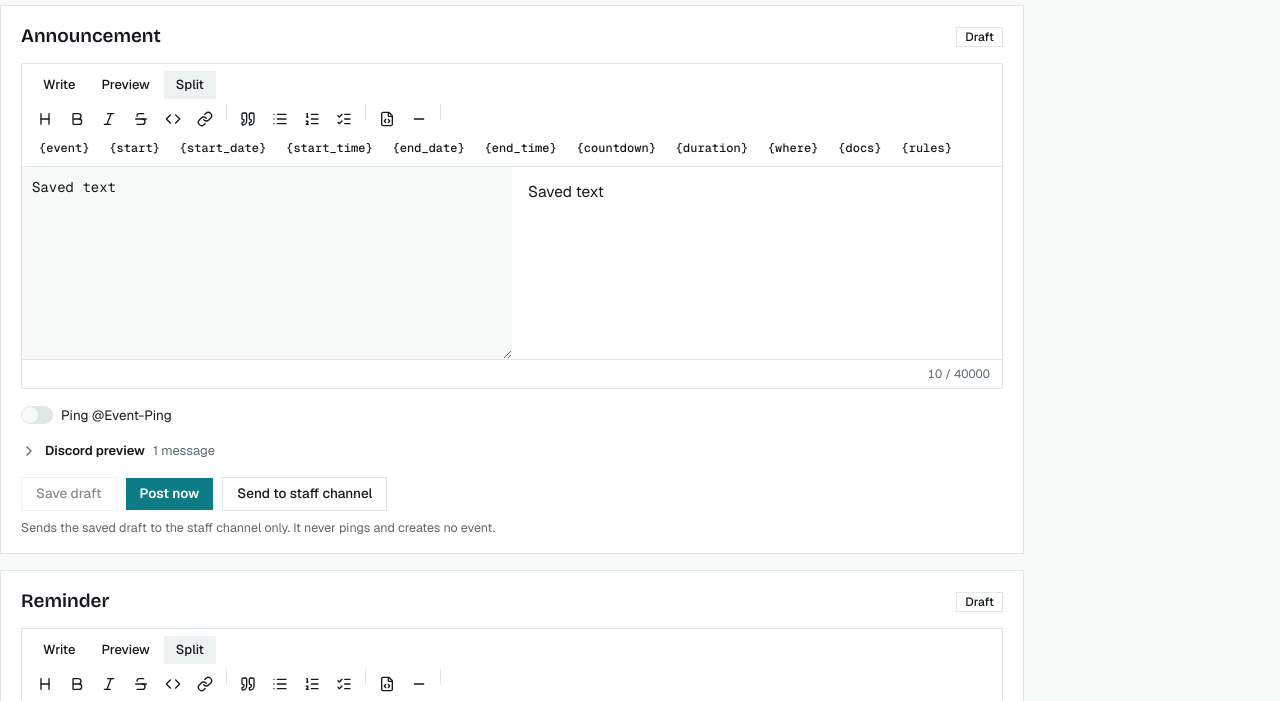
Test: MessagesTab › keeps the Discord preview closed until opened
(page scrolled)
Step 1. Click the button "Discord preview 1 message" → (118, 451), box [21,441,215,460]
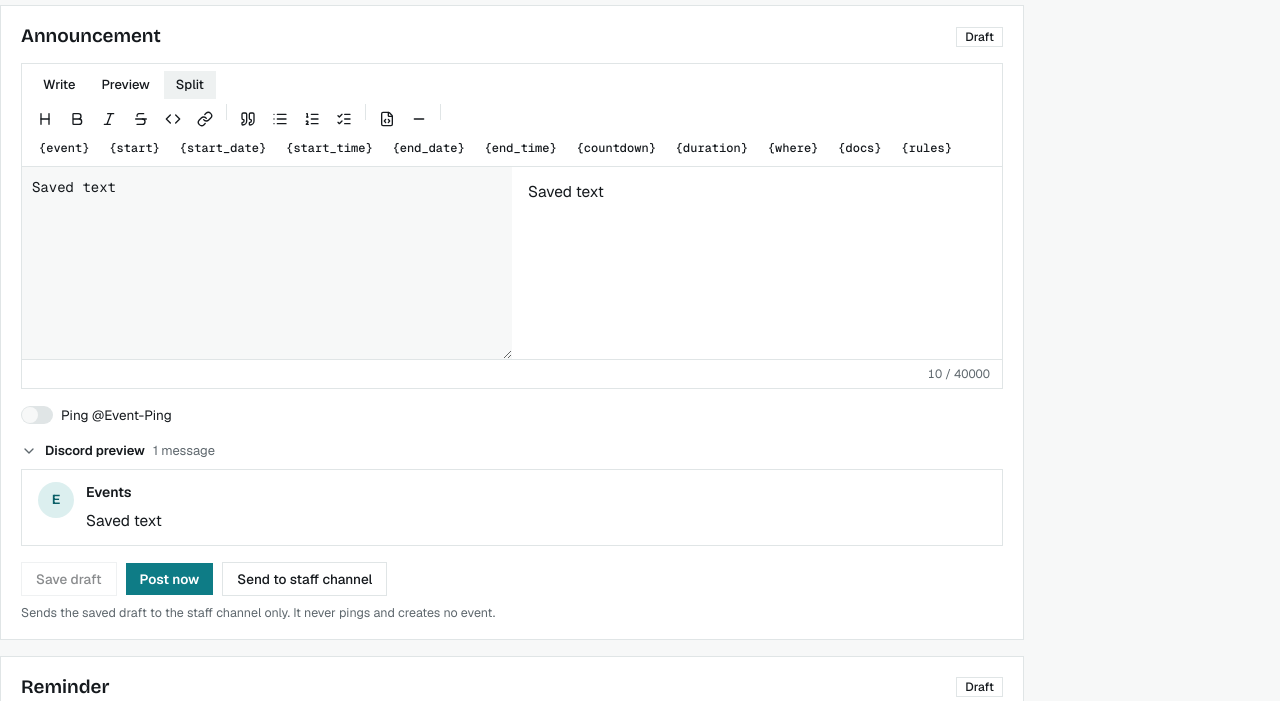
Expected: the element named "Discord message preview" is shown, [21,468,1003,546]
